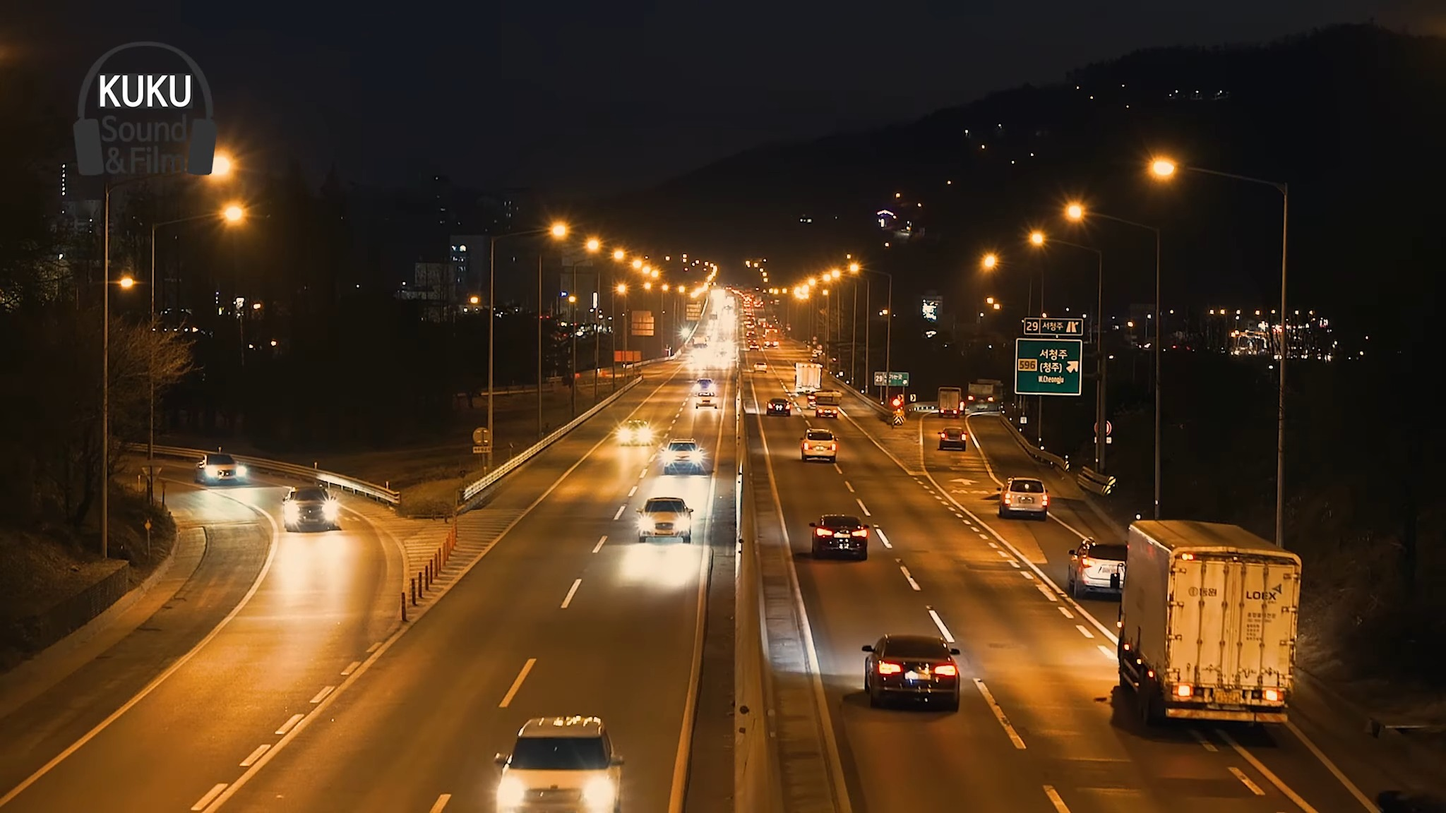car: (862, 632, 966, 710), (650, 436, 715, 483), (809, 512, 869, 560), (636, 500, 692, 538), (1003, 470, 1049, 514)
truck: (1116, 510, 1306, 738)
